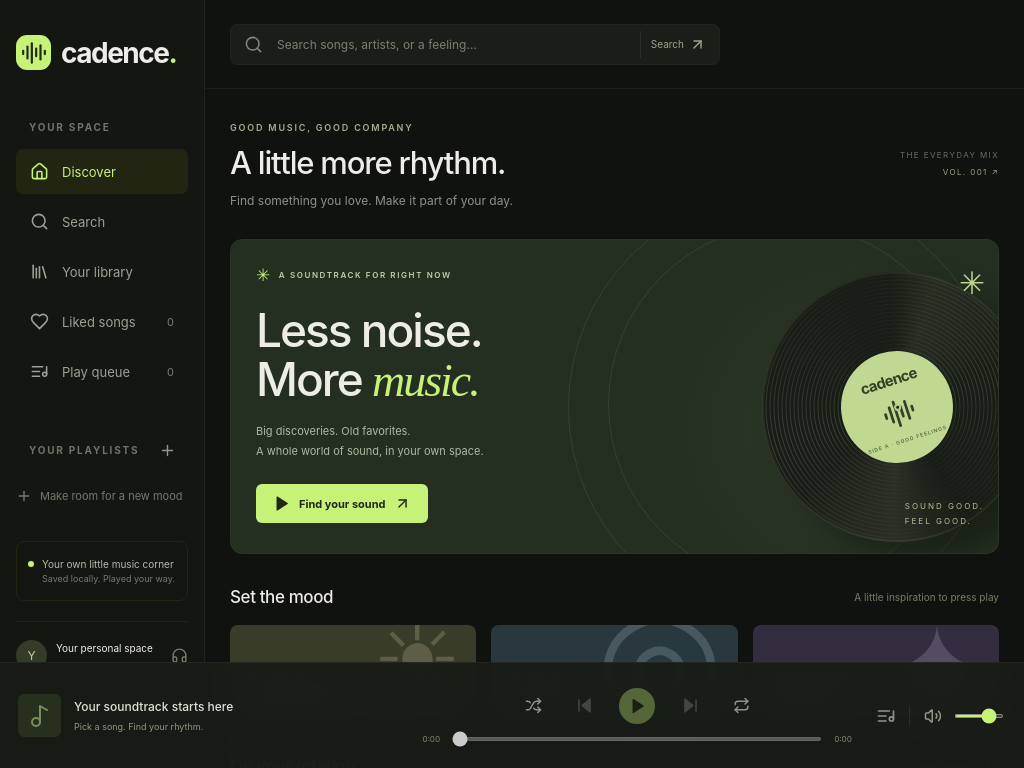
music app › creates a playlist with a dialog
Click the button named "Create playlist". click: (167, 450)
box: [151,434,183,466]
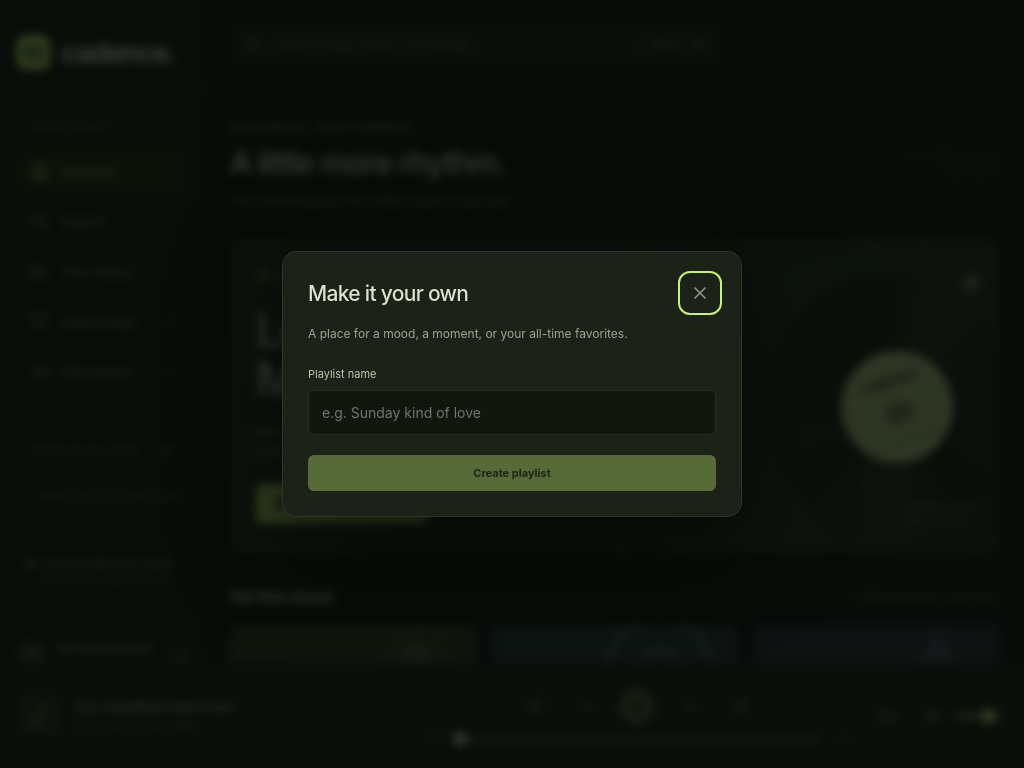
Type "Night drive" into the field labelled "Playlist name". click: (512, 412)
box: [308,390,716,435]
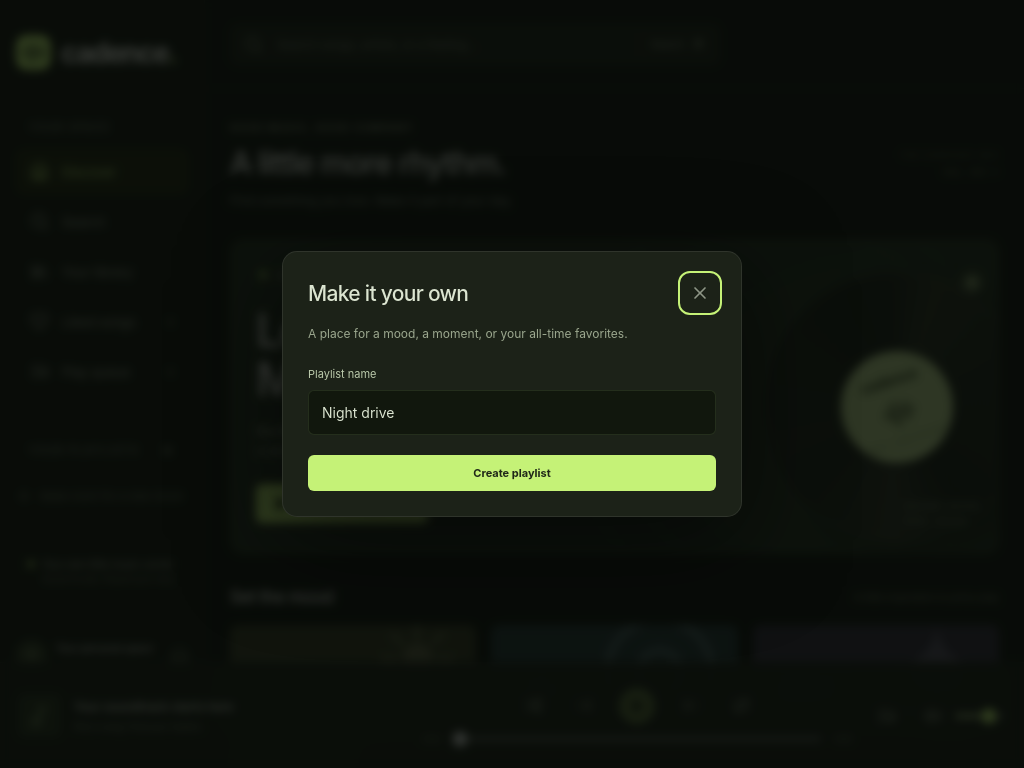
Click the button "Create playlist". click: (512, 473)
box: [308,455,716,491]
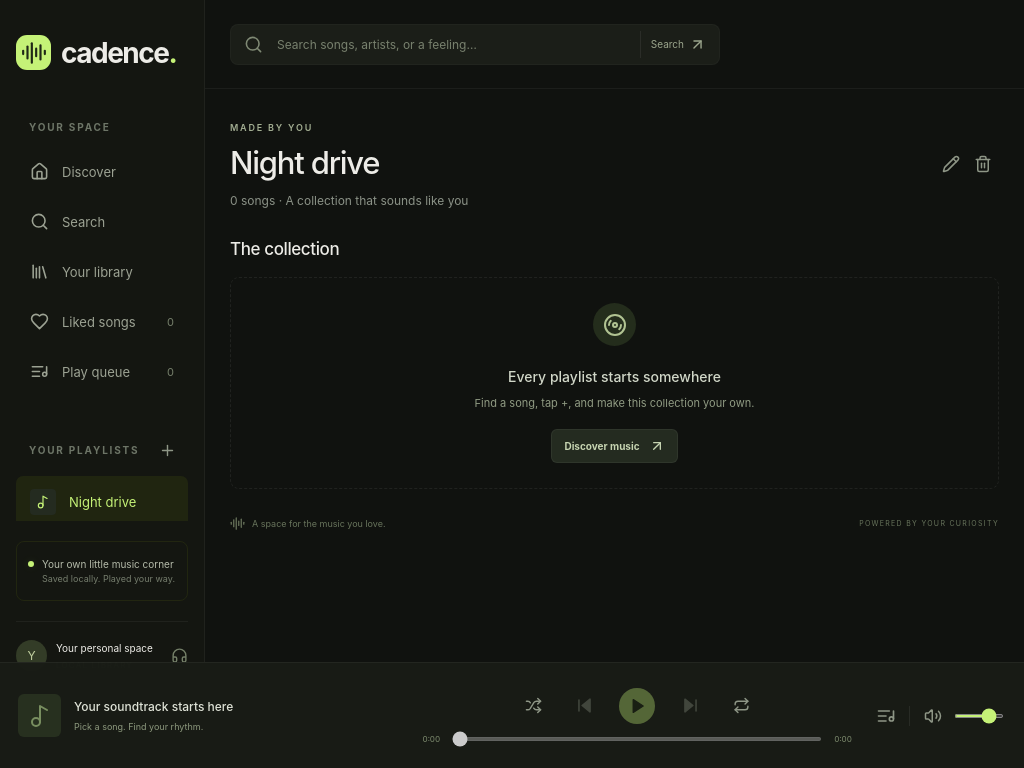
Now the heading "Night drive" is shown, box [230,144,379,181]
Now the dialog is gone
